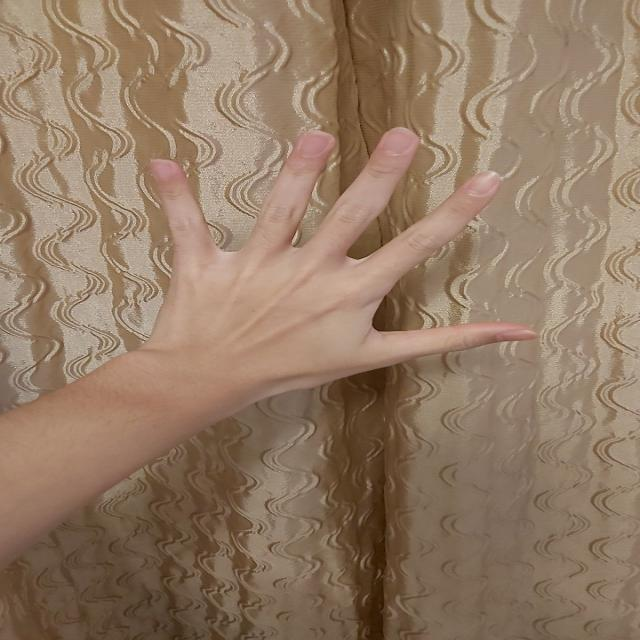Hand: (70, 125, 542, 433)
